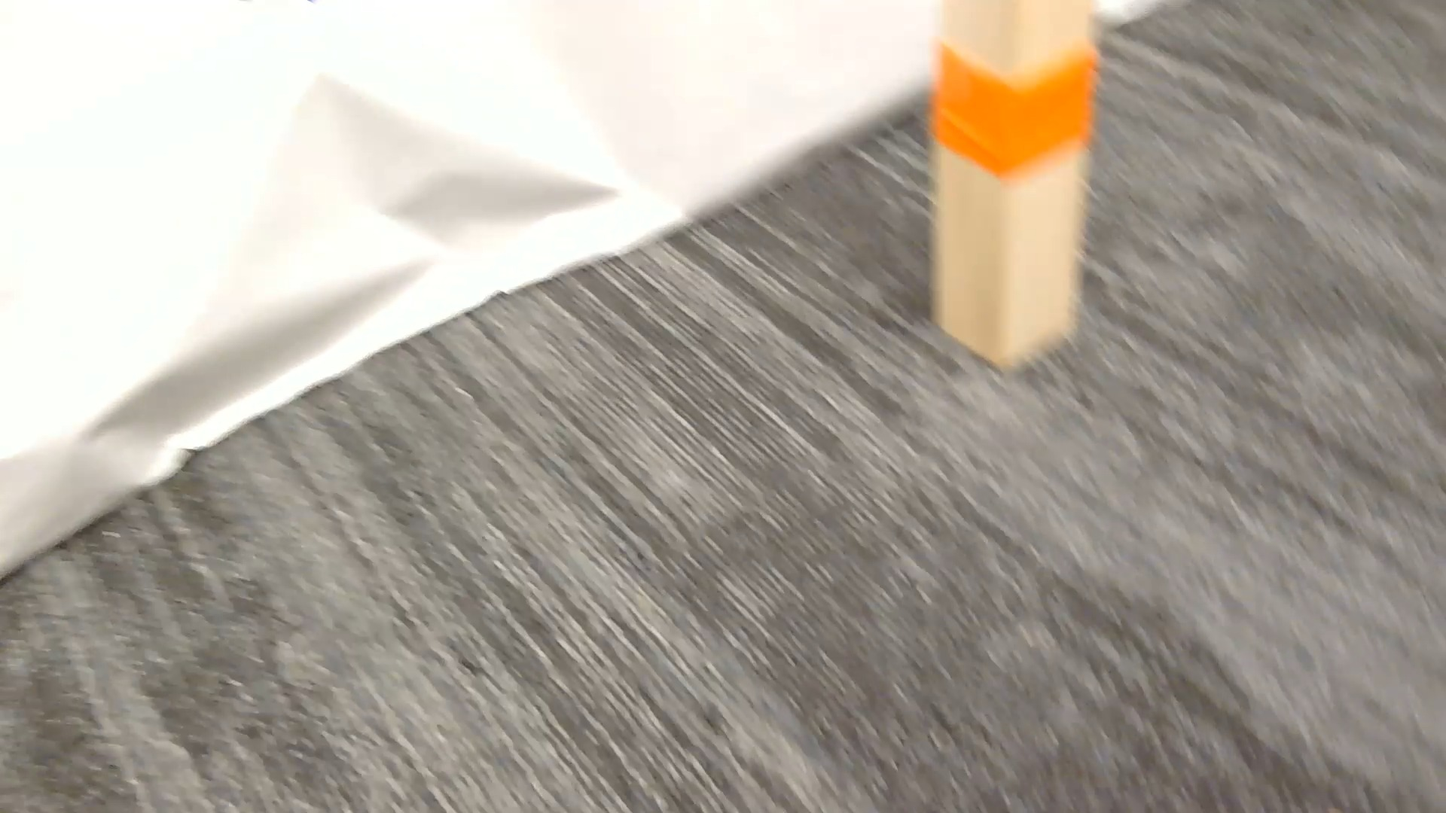Wooden Block: (929, 0, 1097, 367)
